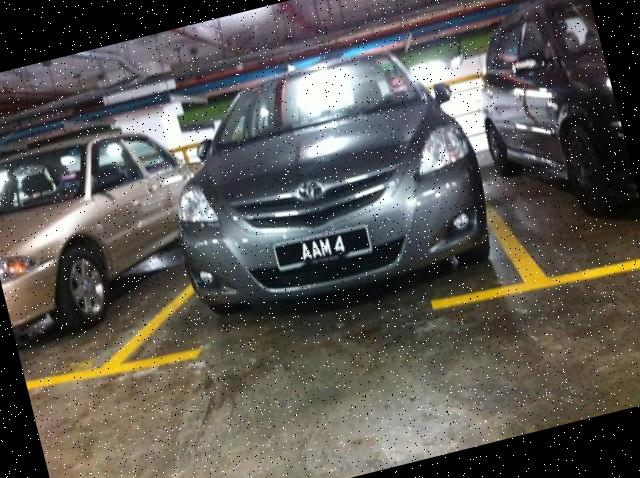License_Plate: (278, 225, 369, 274)
car: (140, 18, 510, 349)
